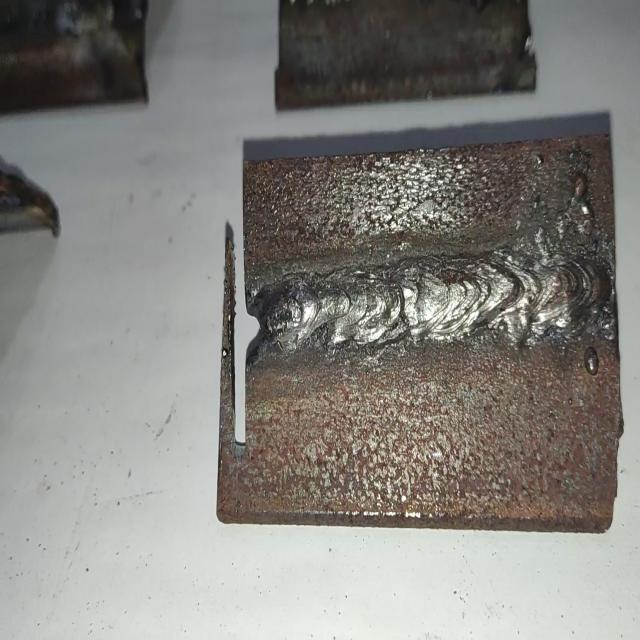Welding Line: (265, 245, 610, 350)
Workpiece: (221, 145, 621, 521), (276, 0, 538, 107)
